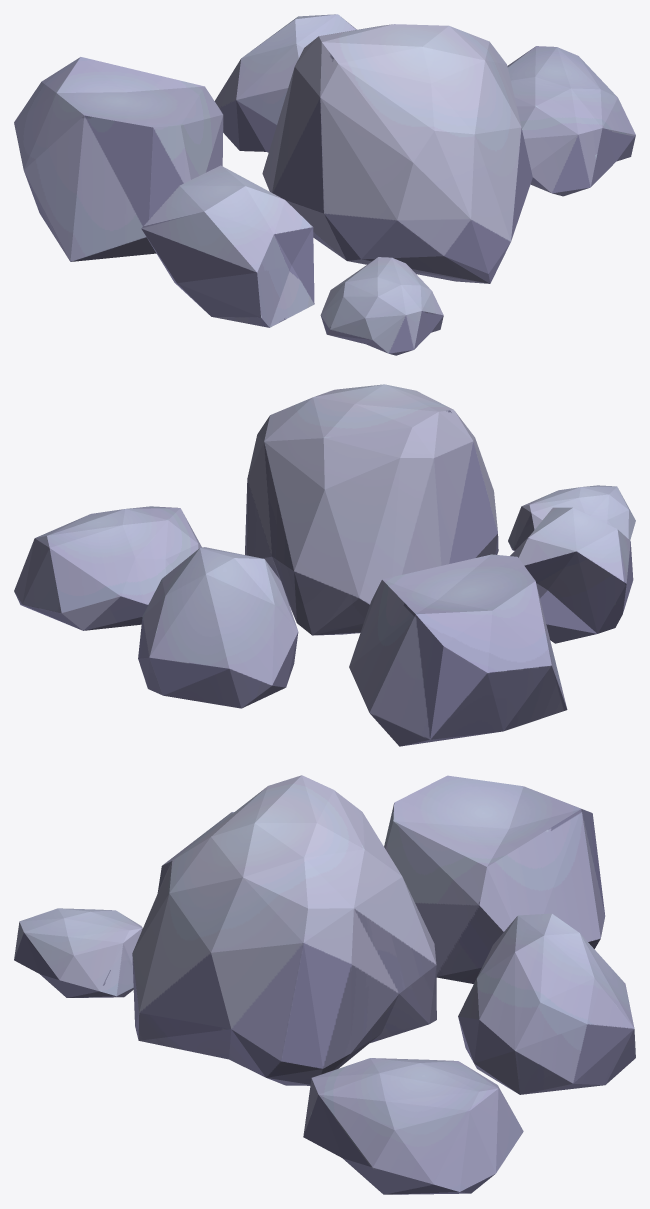
Rendered from Rocks.fbx.
3 views of the same model, one above another, from view 1: azimuth 30°, elevation 25°; view 2: azimuth 150°, elevation 25°; view 3: azimuth 270°, elevation 25° (orthographic). The views are drawn at different scales.
Parts seen in each view (by area): view 1: Rock 1; view 2: Rock 1; view 3: Rock 1.
Part boxes in pixels (x1,y1,x2,y2): Rock 1: (14, 14, 635, 355); Rock 1: (14, 384, 635, 746); Rock 1: (14, 775, 635, 1194).
Size of the model in its own units: 571 by 222 by 509.
